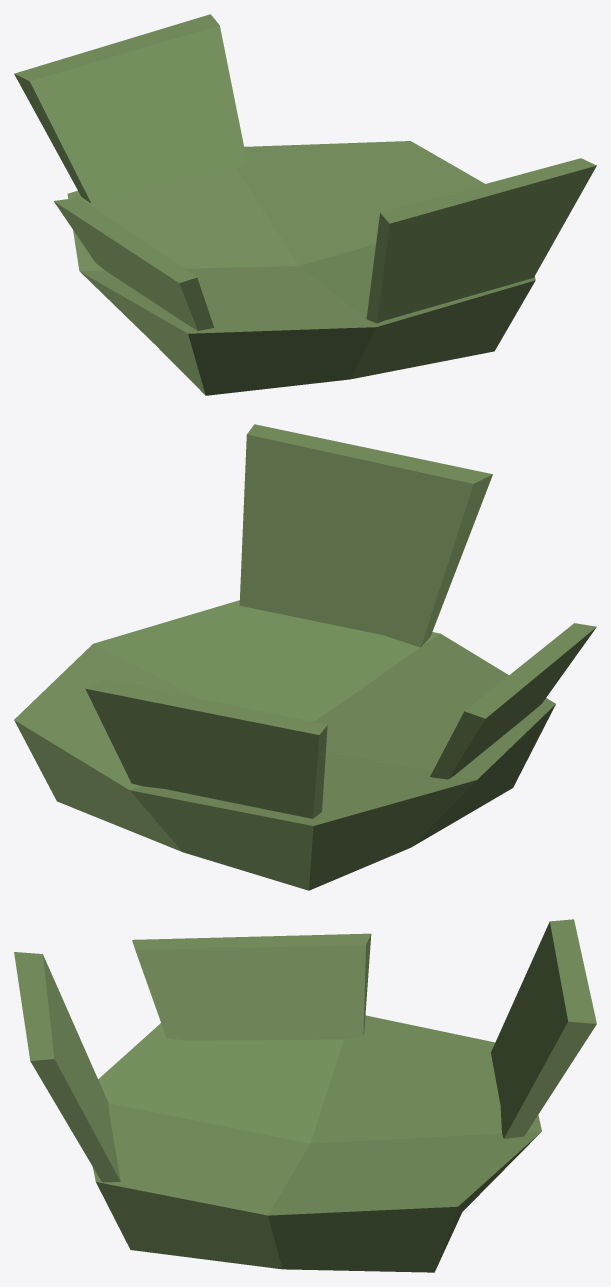
File: cauliflowerBase.fbx
3 views of the same model, one above another, from view 1: azimuth 30°, elevation 25°; view 2: azimuth 150°, elevation 25°; view 3: azimuth 270°, elevation 25° (orthographic). The views are drawn at different scales.
Parts seen in each view (by area): view 1: cauliflowerBase; view 2: cauliflowerBase; view 3: cauliflowerBase.
Part boxes in pixels (left/top/right/bottom): cauliflowerBase: left=14, top=14, right=596, bottom=395; cauliflowerBase: left=14, top=424, right=596, bottom=890; cauliflowerBase: left=14, top=919, right=596, bottom=1272.
Bounding box in the file's own units: 14.42 × 7.41 × 16.8.
Materials: 1 (1 with a texture image).
